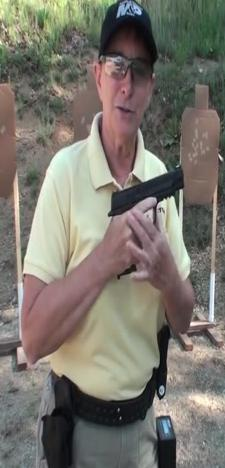pistol: (108, 165, 184, 275)
